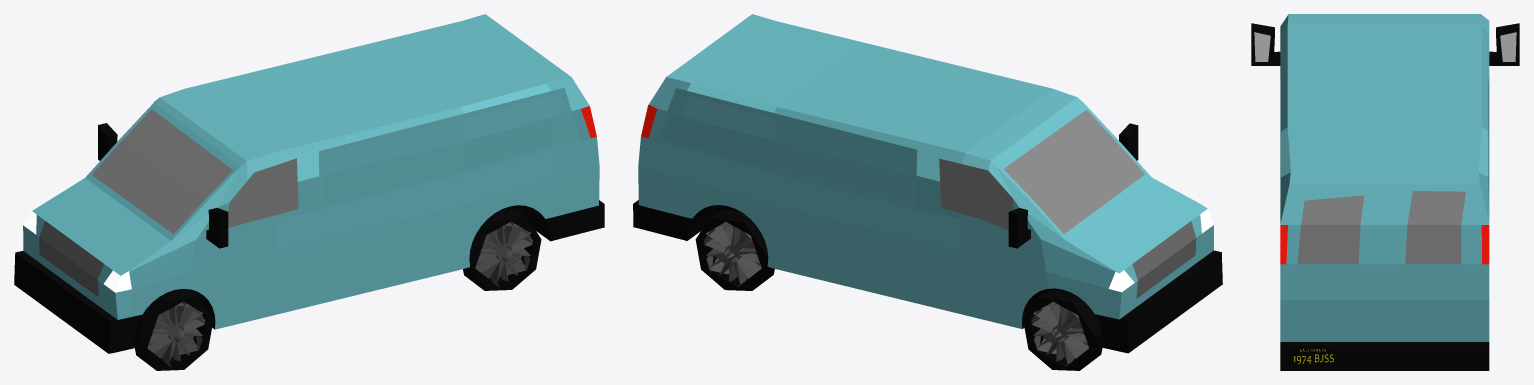
The model's file is Blue Van.glb.
3 views of the same model, side by side, from view 1: azimuth 30°, elevation 25°; view 2: azimuth 150°, elevation 25°; view 3: azimuth 270°, elevation 25° (orthographic). The views are drawn at different scales.
Parts seen in each view (by area): view 1: Van Body, FD Tire, RD Tire; view 2: Van Body, FP Tire, RP Tire; view 3: Van Body, lp.
Boxes of the visible parts, bbox=[...] form: Van Body: bbox=[14, 14, 604, 353]; FD Tire: bbox=[134, 290, 213, 370]; RD Tire: bbox=[463, 210, 541, 290]; Van Body: bbox=[633, 14, 1222, 353]; FP Tire: bbox=[1023, 289, 1102, 370]; RP Tire: bbox=[695, 209, 774, 290]; Van Body: bbox=[1251, 14, 1519, 370]; lp: bbox=[1288, 347, 1337, 369].
Bounding box in the file's own units: 6.63 × 2.5 × 2.8.
